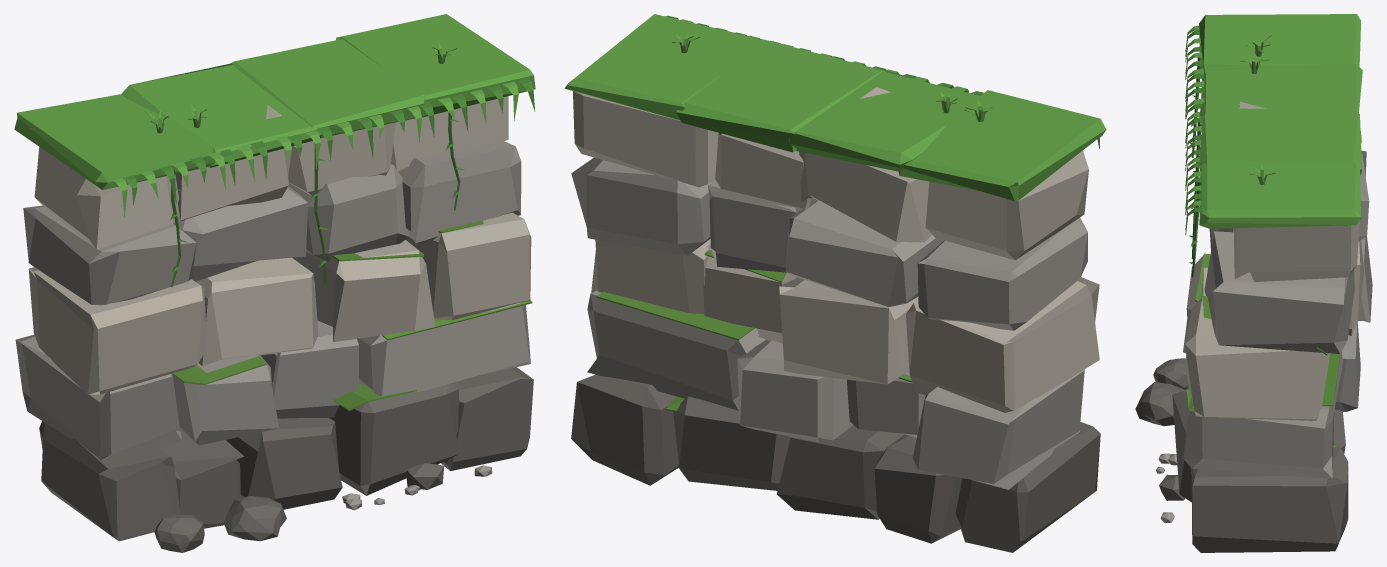
File: cliff-wall.glb
3 views of the same model, side by side, from view 1: azimuth 30°, elevation 25°; view 2: azimuth 150°, elevation 25°; view 3: azimuth 270°, elevation 25° (orthographic). The views are drawn at different scales.
Visible parts, largest first — view 1: CliffWall_Stone, CliffWall_StoneLight, CliffWall_StoneDark, CliffWall_Grass, CliffWall_Moss, CliffWall_GrassDark, CliffWall_Vines; view 2: CliffWall_Stone, CliffWall_StoneLight, CliffWall_Grass, CliffWall_StoneDark, CliffWall_Moss; view 3: CliffWall_Grass, CliffWall_Stone, CliffWall_StoneLight, CliffWall_StoneDark, CliffWall_GrassDark, CliffWall_Moss, CliffWall_Vines.
Boxes of the visible parts, box(x1,y1,x2,y2) form: CliffWall_Stone: box(15, 141, 530, 510); CliffWall_StoneLight: box(28, 96, 531, 394); CliffWall_StoneDark: box(39, 367, 533, 552); CliffWall_Grass: box(14, 14, 535, 217); CliffWall_Moss: box(172, 220, 532, 410); CliffWall_GrassDark: box(123, 78, 535, 205); CliffWall_Vines: box(170, 112, 464, 287); CliffWall_Stone: box(571, 157, 1087, 489); CliffWall_StoneLight: box(573, 87, 1099, 412); CliffWall_Grass: box(564, 14, 1106, 201); CliffWall_StoneDark: box(571, 374, 1100, 552); CliffWall_Moss: box(596, 250, 912, 411); CliffWall_Grass: box(1185, 14, 1362, 229); CliffWall_Stone: box(1156, 150, 1372, 522); CliffWall_StoneLight: box(1184, 101, 1363, 420); CliffWall_StoneDark: box(1135, 358, 1348, 552); CliffWall_GrassDark: box(1185, 30, 1204, 235); CliffWall_Moss: box(1186, 253, 1340, 447); CliffWall_Vines: box(1189, 57, 1201, 277).
Bounding box in the file's own units: 20.94 × 18.15 × 10.54.
